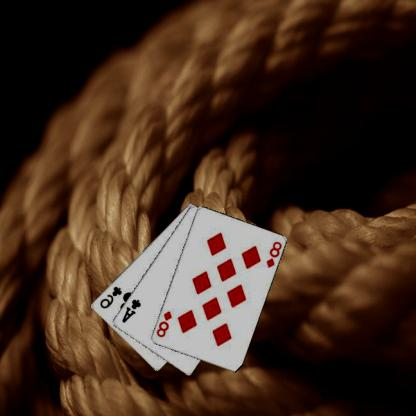8D: (155, 308, 175, 339), (265, 239, 285, 269)
9C: (99, 284, 124, 310)
AC: (120, 297, 144, 324)
